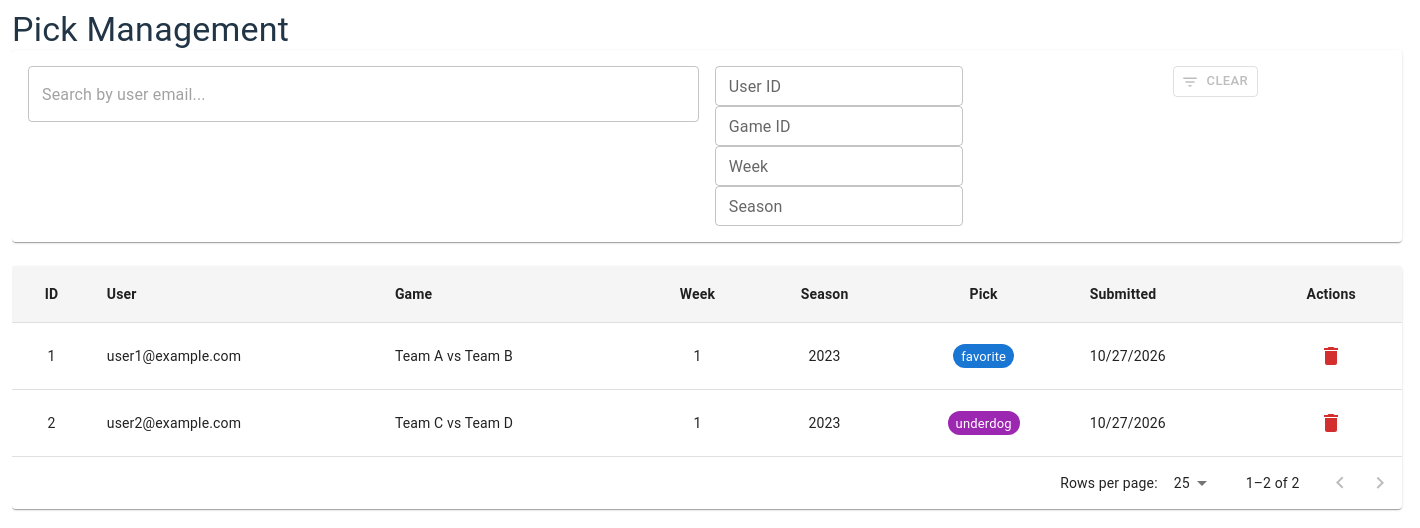
Test: AdminPicksPage (Integration) › should filter picks based on search term
Expected: the text "user1@example.com" is shown, [91, 324, 379, 390]
Expected: the text "user2@example.com" is shown, [91, 390, 379, 458]
Type "user1" into the field with placeholder "Search by user email...".
click(363, 94); type("user1")  # box [28, 66, 699, 122]
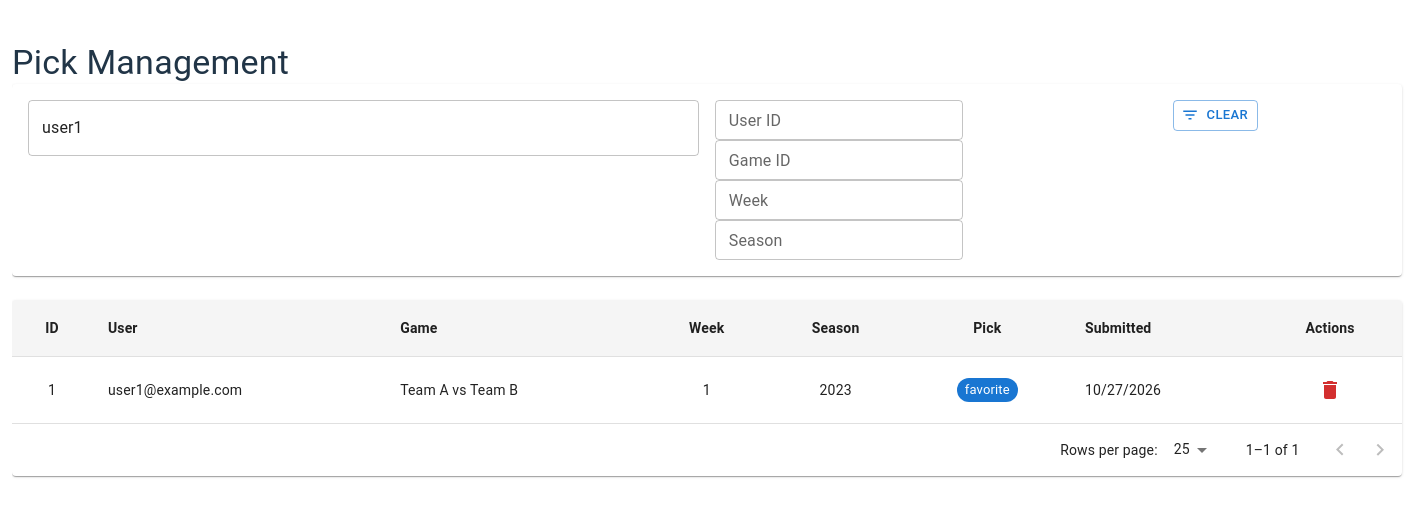
Expected: the text "user1@example.com" is shown, [92, 357, 384, 424]
Result: the text "user2@example.com" is gone
